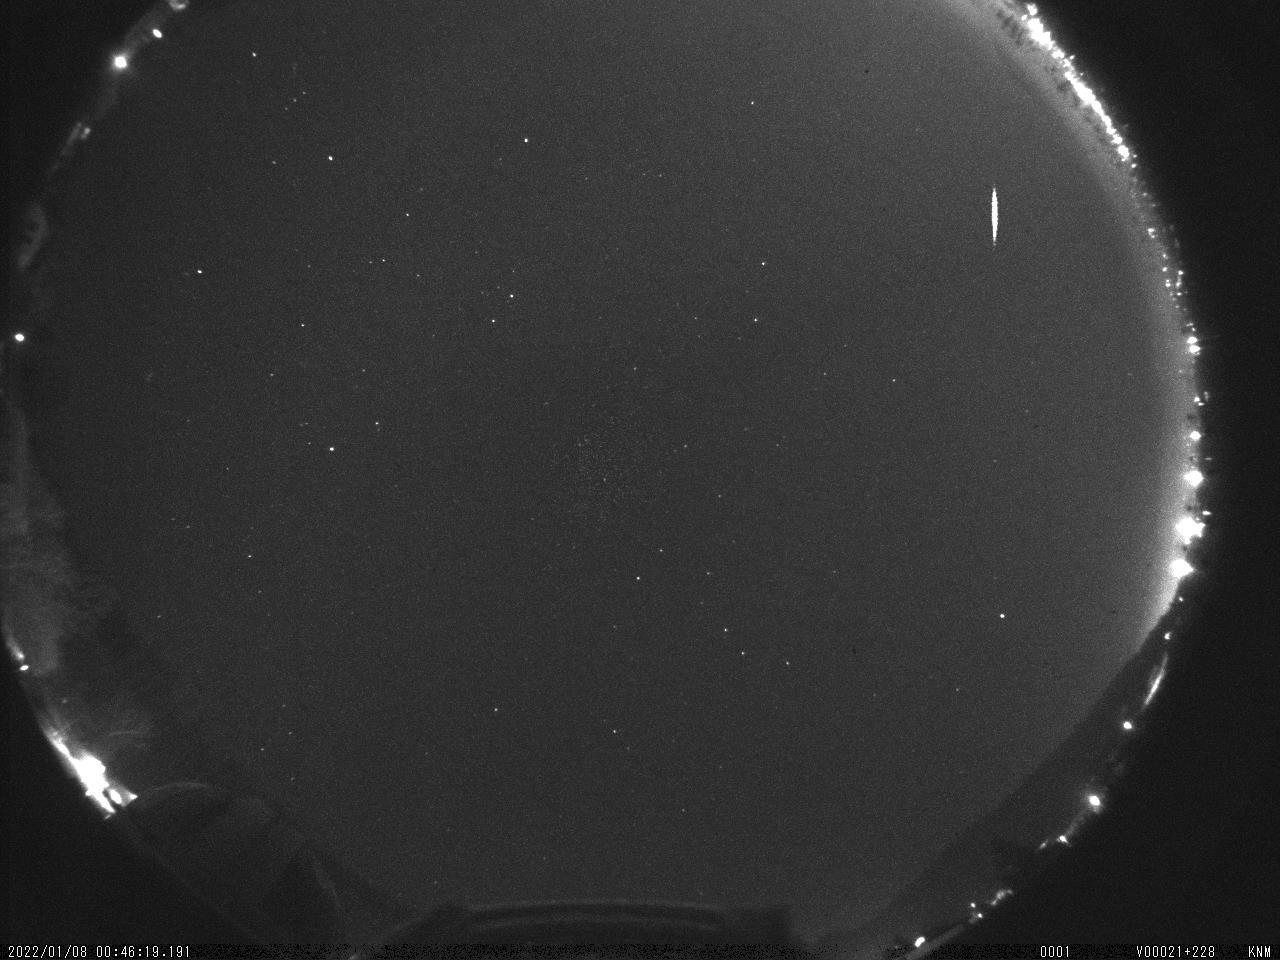Meteor: (985, 177, 1003, 254)
